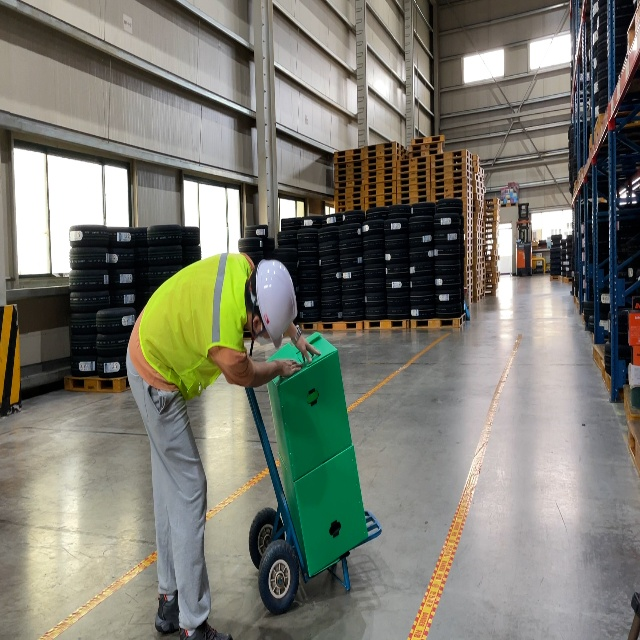Box: (264, 331, 353, 483), (277, 444, 369, 578)
Worker: (126, 251, 321, 640)
